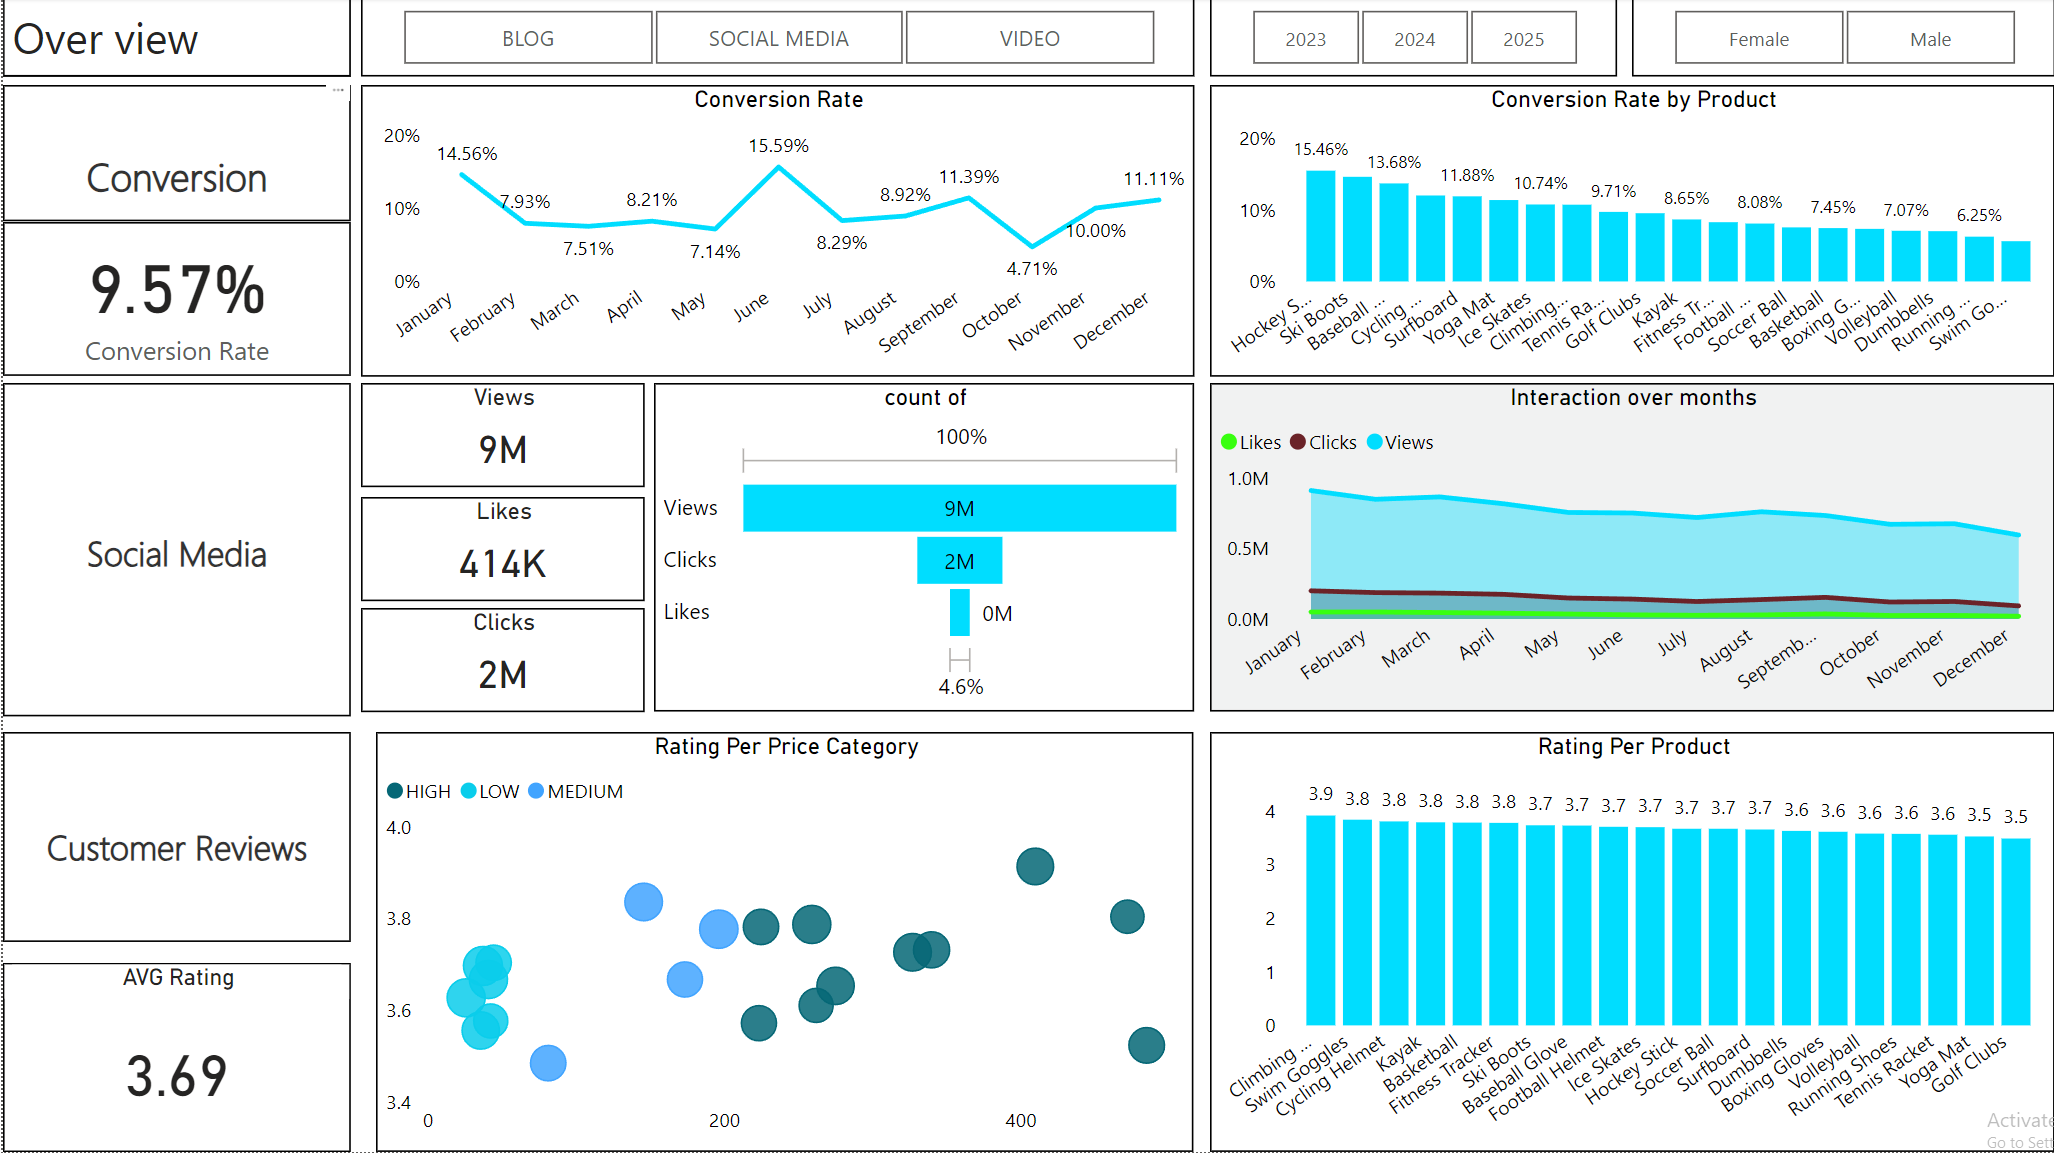

The dashboard page shown, as its layout file describes it:
{"tool":"powerbi","page":{"name":"Overview","canvas":[1280,720],"ordinal":0},"visuals":[{"type":"card","fields":{"Values":["_measures.Conversion Rate"]},"box":[0,139.8,217.1,96.1],"z":0},{"type":"card","title":"Likes","fields":{"Values":["_measures.Likes"]},"box":[223.4,311.3,176.6,64.9],"z":1000},{"type":"card","title":"Views","fields":{"Values":["_measures.Views"]},"box":[223.4,240.2,176.6,64.9],"z":2000},{"type":"card","title":"Clicks","fields":{"Values":["_measures.clicks"]},"box":[223.4,380.6,176.6,64.9],"z":3000},{"type":"card","title":"AVG Rating","fields":{"Values":["_measures.AVG_Rating"]},"box":[0,602.1,217.1,117.9],"z":4000},{"type":"clusteredColumnChart","title":"Conversion Rate by Product","fields":{"Category":["Dim_Product.ProductName"],"Y":["_measures.Conversion Rate"]},"box":[753.1,54.3,527.2,181.6],"z":5000},{"type":"funnel","title":"count of","fields":{"Y":["Sum(fact_engagement_data.Views)","Sum(fact_engagement_data.Clicks)","Sum(fact_engagement_data.Likes)"]},"box":[406.2,240.2,336.9,205.3],"z":6000},{"type":"clusteredColumnChart","title":"Rating Per Product","fields":{"Category":["Dim_Product.ProductName"],"Y":["_measures.AVG_Rating"]},"box":[753.1,458,527.2,262],"z":7000},{"type":"scatterChart","title":"Rating Per Price Category","fields":{"Y":["_measures.AVG_Rating"],"X":["Dim_Product.Price"],"Series":["Dim_Product.PriceCategory"],"Size":["_measures.number of reviews"]},"box":[233,458.1,510.4,261.8],"z":8000},{"type":"textbox","box":[0,458.1,217.3,130.9],"z":9000},{"type":"textbox","box":[0,240.2,217.3,208.1],"z":10000},{"type":"textbox","box":[0,54.3,217.1,85.5],"z":11000},{"type":"slicer","fields":{"Values":["Dim_Customers.Gender"]},"box":[1016.4,0,263.9,49.3],"z":12000},{"type":"slicer","fields":{"Values":["Calendar.Date.Variation.Date Hierarchy.Year"]},"box":[753.1,0,253.9,49.3],"z":13000},{"type":"slicer","fields":{"Values":["fact_engagement_data.ContentType"]},"box":[223.4,0,519.7,49.3],"z":14000},{"type":"lineChart","title":"Interaction over months","fields":{"Y":["Sum(fact_engagement_data.Likes)","Sum(fact_engagement_data.Clicks)","Sum(fact_engagement_data.Views)"],"Category":["Calendar.Date.Variation.Date Hierarchy.Month"]},"box":[753.1,240.2,526.6,205.3],"z":15000},{"type":"lineChart","title":"Conversion Rate ","fields":{"Y":["_measures.Conversion Rate"],"Category":["Calendar.Date.Variation.Date Hierarchy.Month"]},"box":[223.4,54.3,519.7,181.6],"z":16000},{"type":"textbox","box":[0,0,217.1,49.3],"z":17000}]}

Visuals, with their boxes in screenshot pixels (x1, y1, x2, y2), scaled from the page's 1280x720 canvas onto the 2054x1153 screenshot:
card - _measures.Conversion Rate: bbox=[0, 224, 348, 378]
"Likes" card: bbox=[358, 499, 642, 602]
"Views" card: bbox=[358, 385, 642, 489]
"Clicks" card: bbox=[358, 609, 642, 713]
"AVG Rating" card: bbox=[0, 964, 348, 1152]
"Conversion Rate by Product" clusteredColumnChart: bbox=[1208, 87, 2053, 378]
"count of" funnel: bbox=[652, 385, 1192, 713]
"Rating Per Product" clusteredColumnChart: bbox=[1208, 733, 2053, 1152]
"Rating Per Price Category" scatterChart: bbox=[374, 734, 1193, 1152]
textbox: bbox=[0, 734, 349, 943]
textbox: bbox=[0, 385, 349, 718]
textbox: bbox=[0, 87, 348, 224]
slicer - Dim_Customers.Gender: bbox=[1631, 0, 2053, 79]
slicer - Calendar.Date.Variation.Date Hierarchy.Year: bbox=[1208, 0, 1616, 79]
slicer - fact_engagement_data.ContentType: bbox=[358, 0, 1192, 79]
"Interaction over months" lineChart: bbox=[1208, 385, 2053, 713]
"Conversion Rate " lineChart: bbox=[358, 87, 1192, 378]
textbox: bbox=[0, 0, 348, 79]
